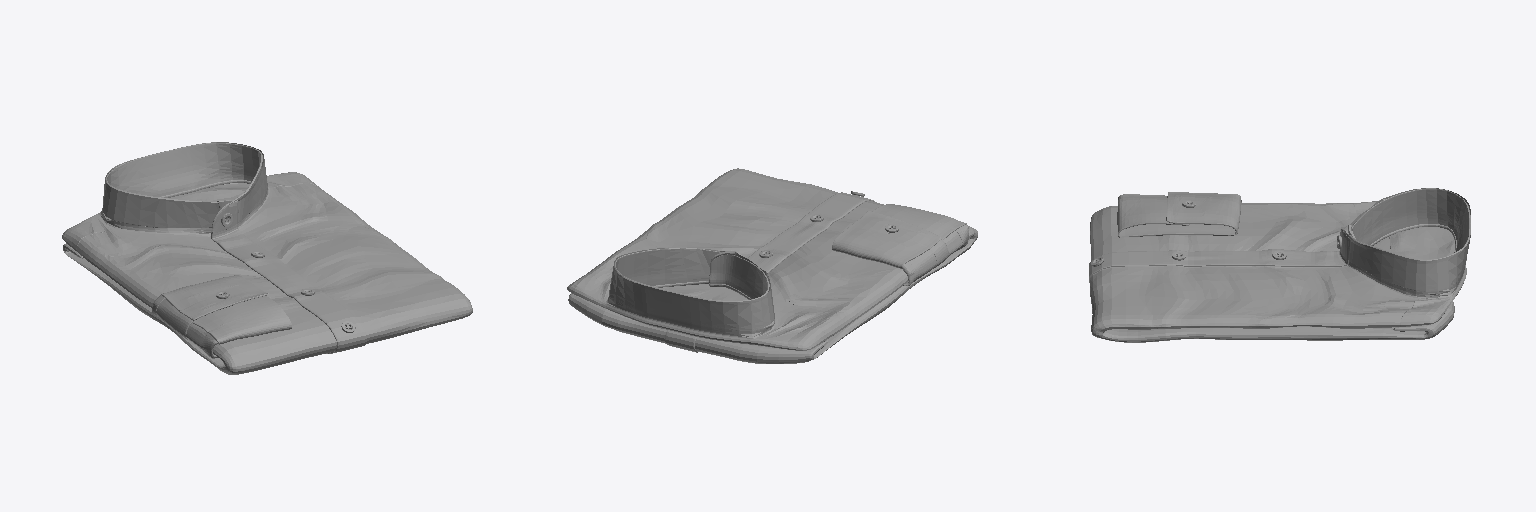
File: Shirt_base_rit.obj
3 renders of one model, left to right at view 1: azimuth 30°, elevation 25°; view 2: azimuth 150°, elevation 25°; view 3: azimuth 270°, elevation 25°, orthographic.
Visible parts, largest first — view 1: Object006.001, Object007.001, Object009.001; view 2: Object006.001, Object007.001, Object009.001; view 3: Object006.001, Object009.001, Object007.001.
Boxes of the visible parts, x1,y1,x2,y2 form: Object006.001: [62, 142, 472, 374]; Object007.001: [105, 143, 262, 204]; Object009.001: [161, 275, 291, 344]; Object006.001: [567, 168, 977, 363]; Object007.001: [614, 248, 769, 301]; Object009.001: [832, 204, 966, 268]; Object006.001: [1089, 188, 1470, 342]; Object009.001: [1117, 192, 1240, 237]; Object007.001: [1347, 188, 1470, 260].
Bounding box in the file's own units: 31.57 × 8.09 × 41.39.